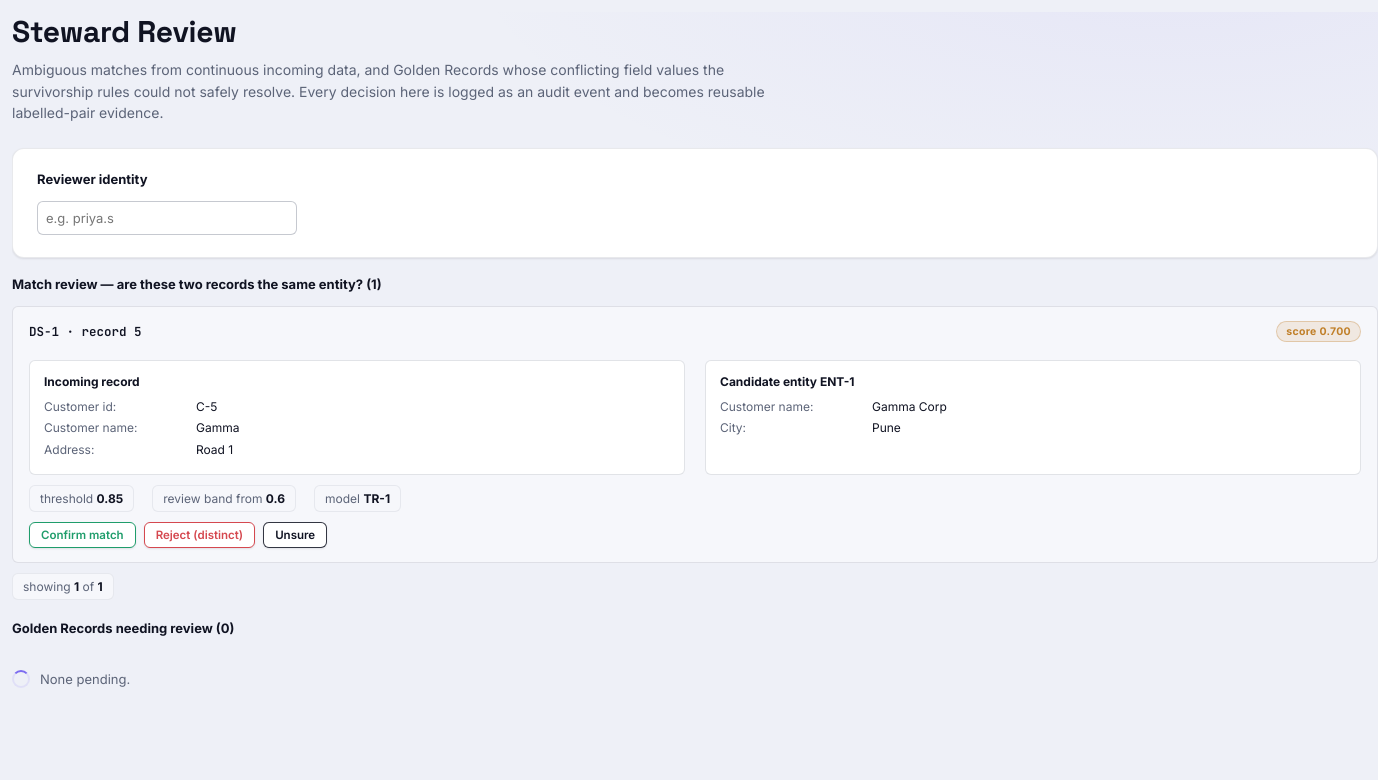
Test: Journey T: reprofiling shows only FIXED, ordered record fields, labels for training › T4: Steward Review tells the steward what Distinct did and shows fields in order
The image size is (1378, 780).
Expected: the text "DS-1 · record 5" is shown, 29,323 -> 142,340
Type "priya.s" into the field with placeholder "e.g. priya.s" at (167, 218), box 37,201 -> 297,235
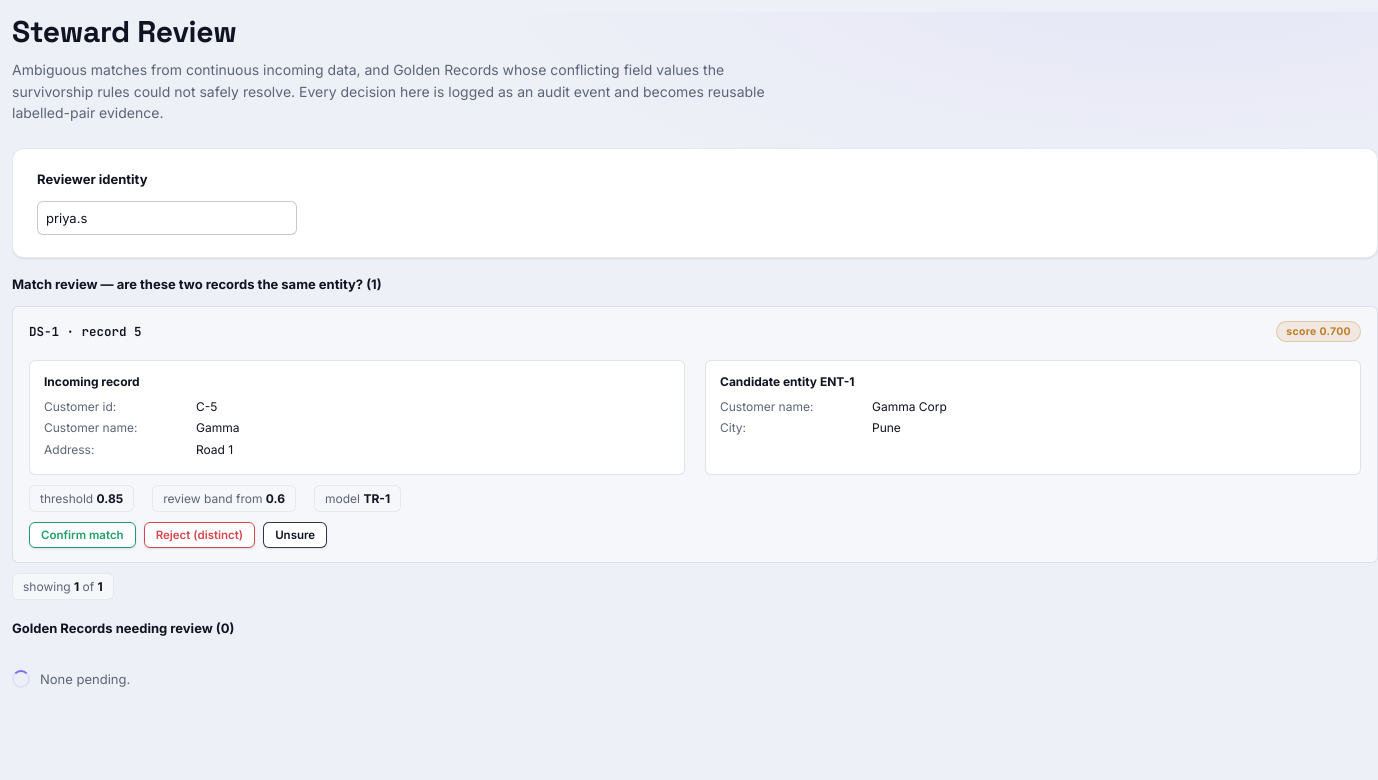
Click the button "Reject (distinct)" at (199, 535), box 144,522 -> 255,548
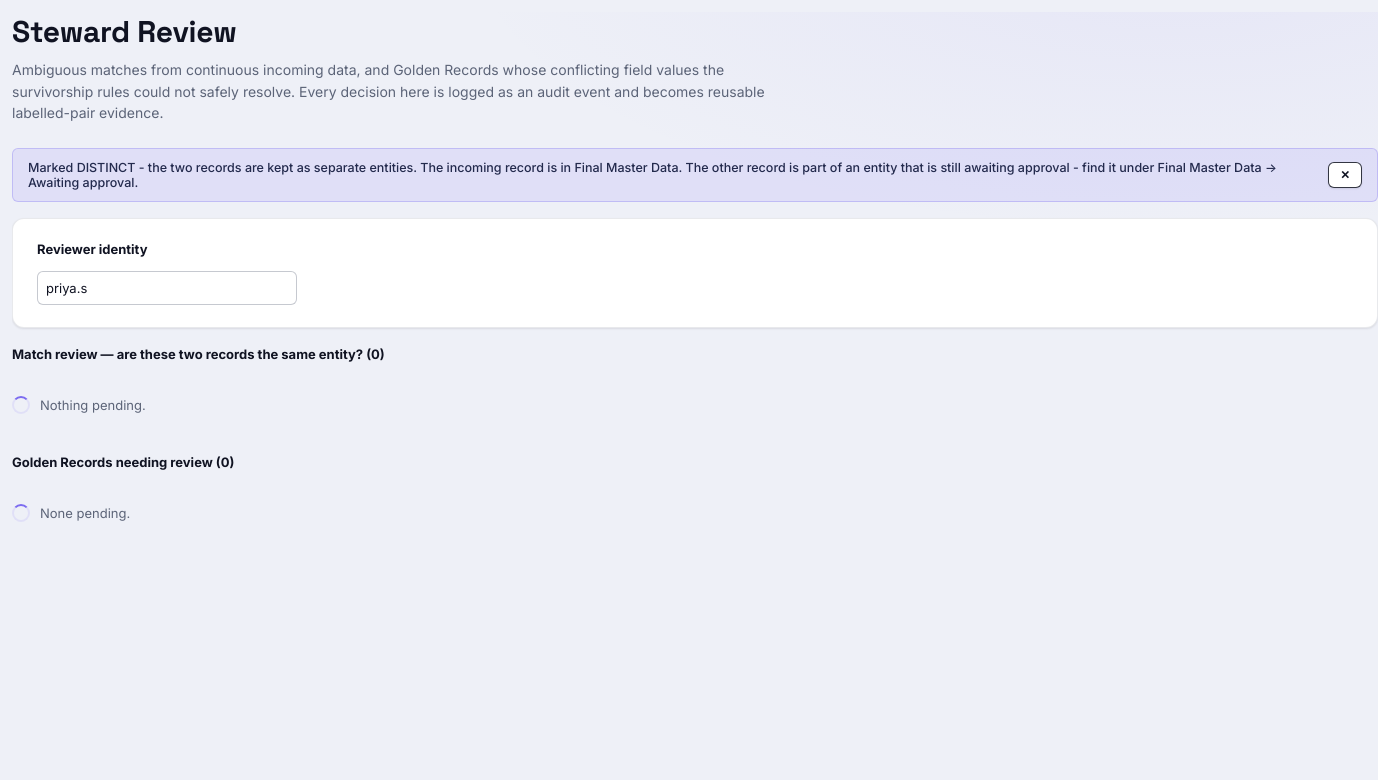
Result: the text "still awaiting approval" is shown at 28,160 -> 1277,190
